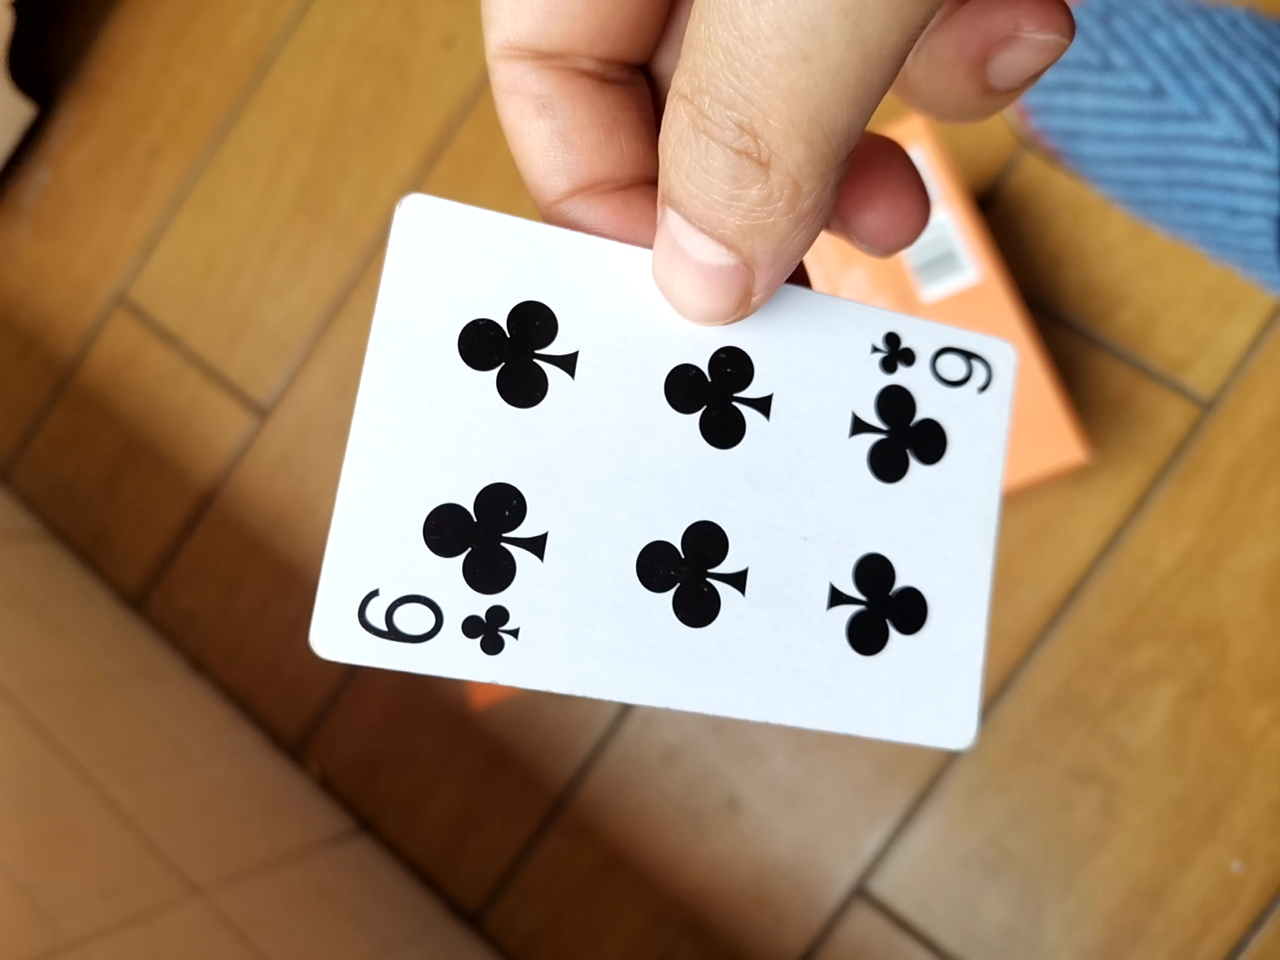mh 6: (292, 208, 1016, 751)
